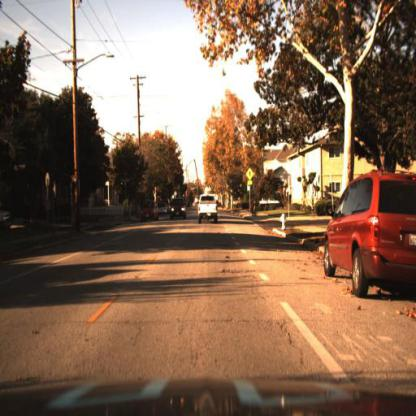car: (324, 170, 416, 303), (198, 193, 218, 224), (167, 199, 190, 223), (139, 199, 159, 221), (172, 195, 186, 223), (158, 202, 169, 218)
